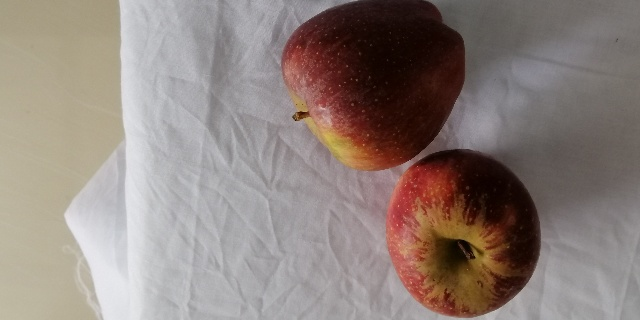apple_kashmir: (280, 0, 473, 171), (384, 152, 544, 316)
